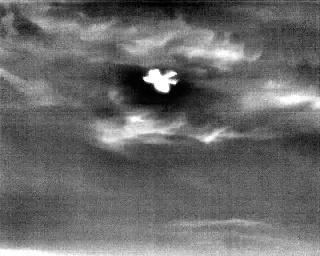HELICOPTER: (141, 65, 181, 98)
